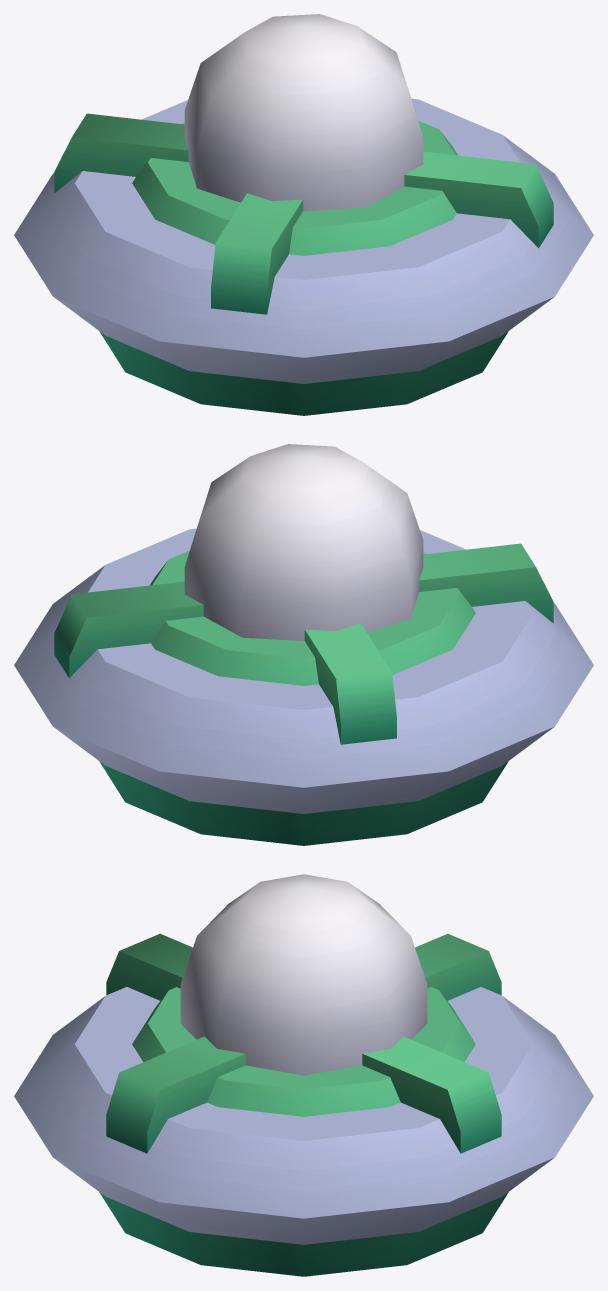
Rendered from k-tower-defense-enemy-ufo-b.glb.
3 renders of one model, top to bottom at view 1: azimuth 30°, elevation 25°; view 2: azimuth 150°, elevation 25°; view 3: azimuth 270°, elevation 25°, orthographic.
Parts seen in each view (by area): view 1: enemy-ufo-b; view 2: enemy-ufo-b; view 3: enemy-ufo-b.
Part boxes in pixels (bbox=[...]): enemy-ufo-b: bbox=[14, 14, 593, 415]; enemy-ufo-b: bbox=[14, 444, 593, 845]; enemy-ufo-b: bbox=[14, 874, 593, 1276].
Size of the model in its own units: 0.9994 by 0.5754 by 1.
Materials: 1 (1 with a texture image).
